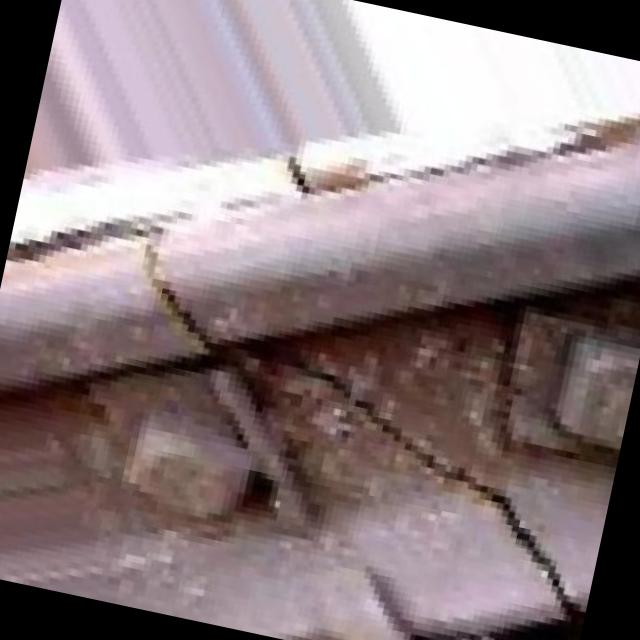defective: (29, 14, 640, 640)
